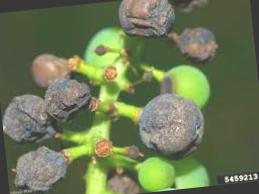Grape Rotten: (0, 0, 233, 194), (134, 89, 208, 160)
